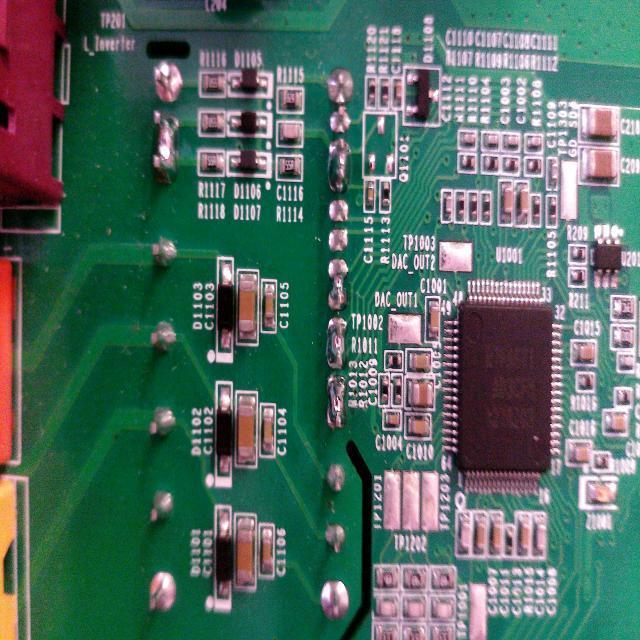Soldering shorted: (147, 106, 183, 182), (323, 312, 354, 372), (324, 137, 354, 194), (324, 370, 350, 432), (324, 255, 352, 312)
